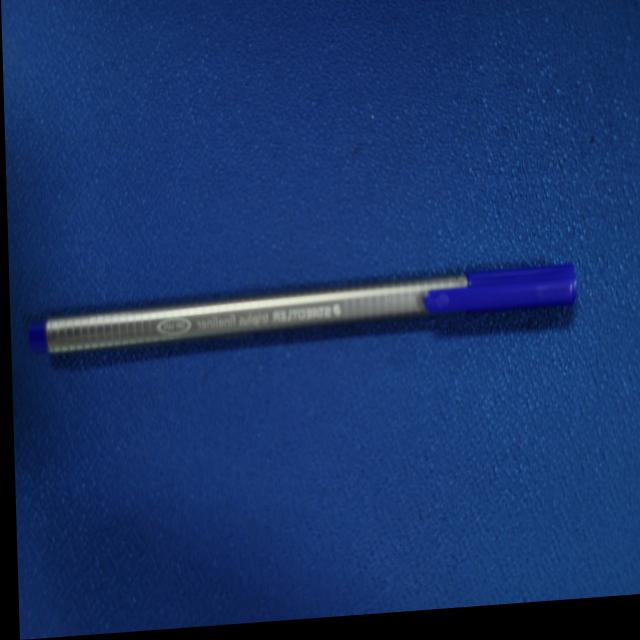caneta: (18, 265, 586, 368)
